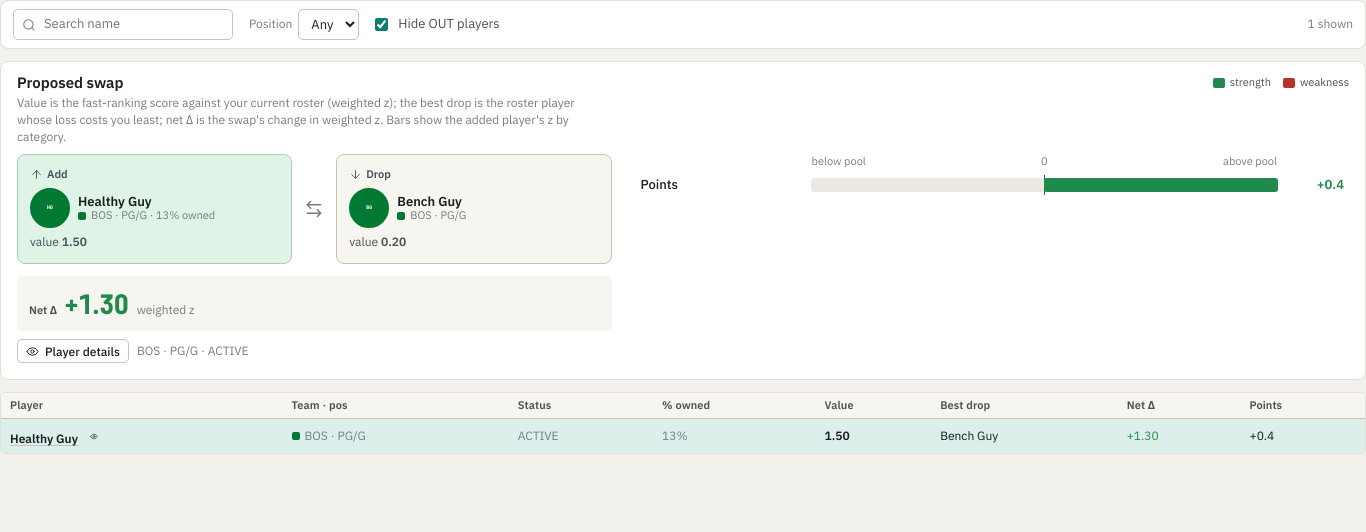
Test: FreeAgentsTab › hides OUT players by default, shows them on demand, and explains the selected swap
This screenshot has width=1366, height=532.
Expected: the text "Hurt Guy" is not shown
Expected: the text "Healthy Guy" is shown, x1=78 y1=193 x2=152 y2=210
Click the checkbox labelled "Hide OUT players": [382, 24] box x1=375 y1=18 x2=388 y2=31
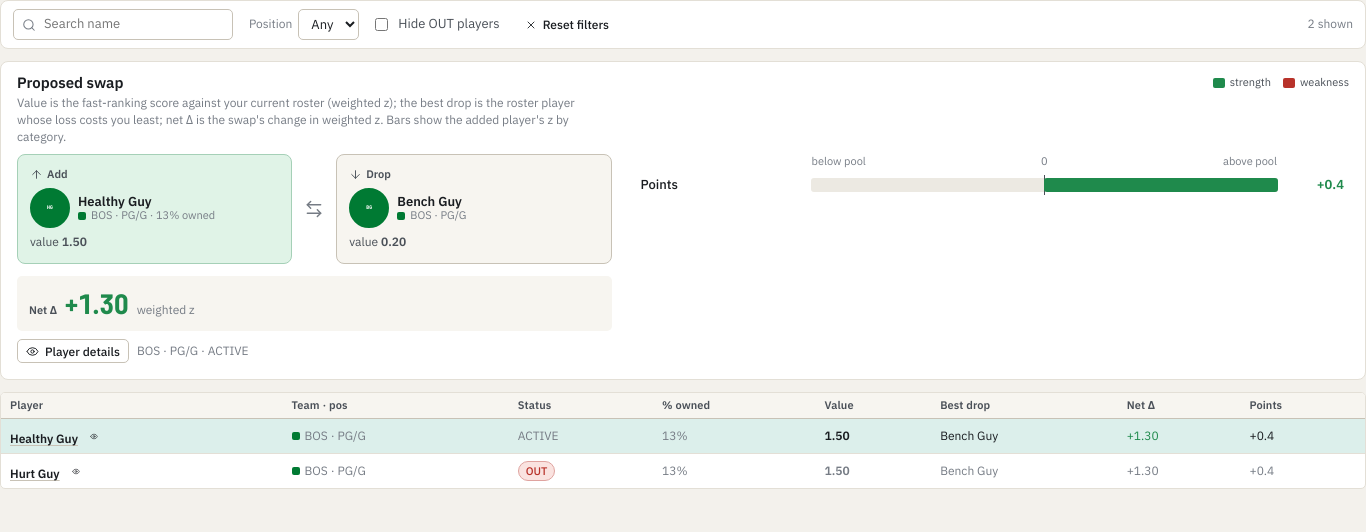
Now the button "Hurt Guy" is shown, box x1=10 y1=466 x2=60 y2=481
Click the 2nd cell "BOS · PG/G": [296, 471] box x1=282 y1=454 x2=509 y2=488
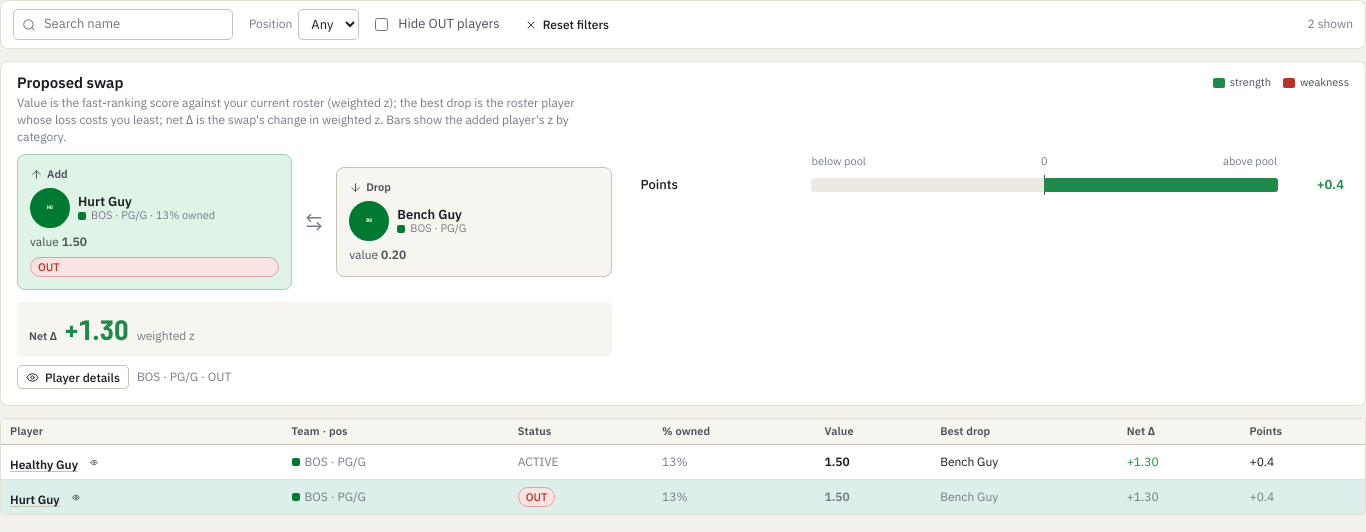
Now the text "Hurt Guy" is shown, box x1=78 y1=193 x2=132 y2=210
